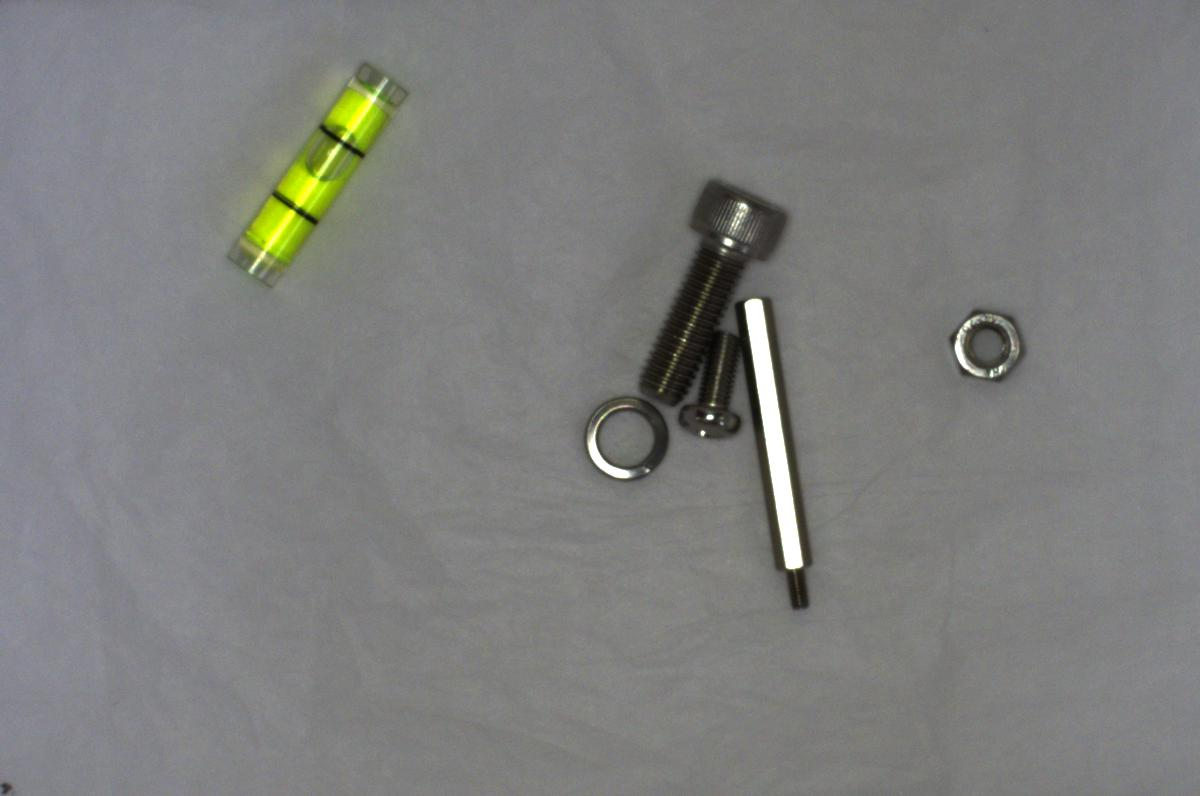Hexagon nut: (935, 287, 1035, 394)
Hexagon screw: (623, 169, 796, 404)
Hexagonal steel column: (737, 287, 825, 614)
Horizontal bubble: (214, 50, 419, 296)
Round head screw: (675, 324, 753, 446)
Spring washer: (578, 391, 679, 485)
